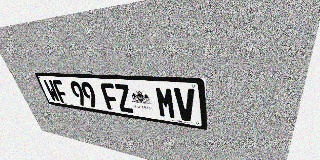9: (79, 82, 99, 108), (68, 81, 88, 106)
F: (100, 83, 120, 111), (51, 80, 70, 104)
M: (154, 86, 177, 119)
V: (174, 87, 196, 122)
W: (43, 79, 61, 102)
Z: (113, 84, 134, 113)
